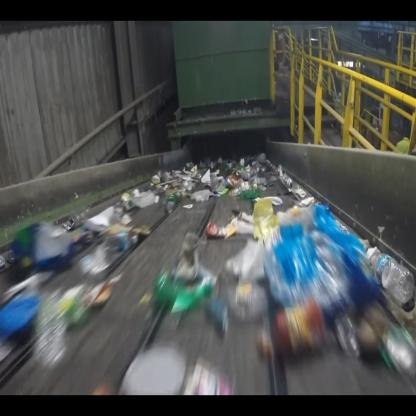Glass Bottle: (370, 252, 416, 306), (154, 269, 214, 310), (239, 188, 259, 201)
